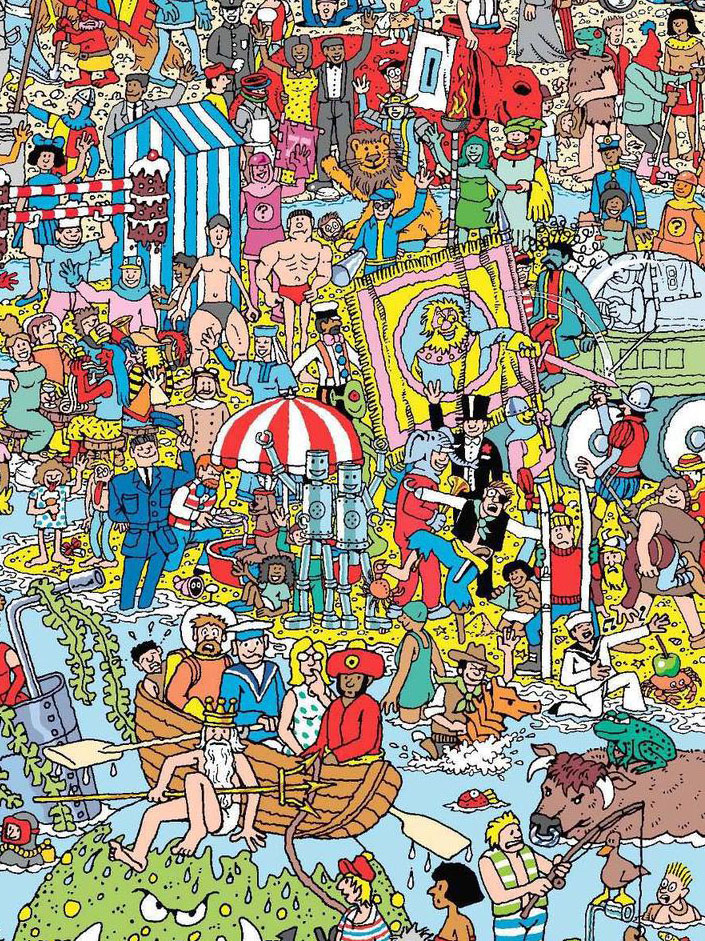waldo: (373, 53, 409, 92)
